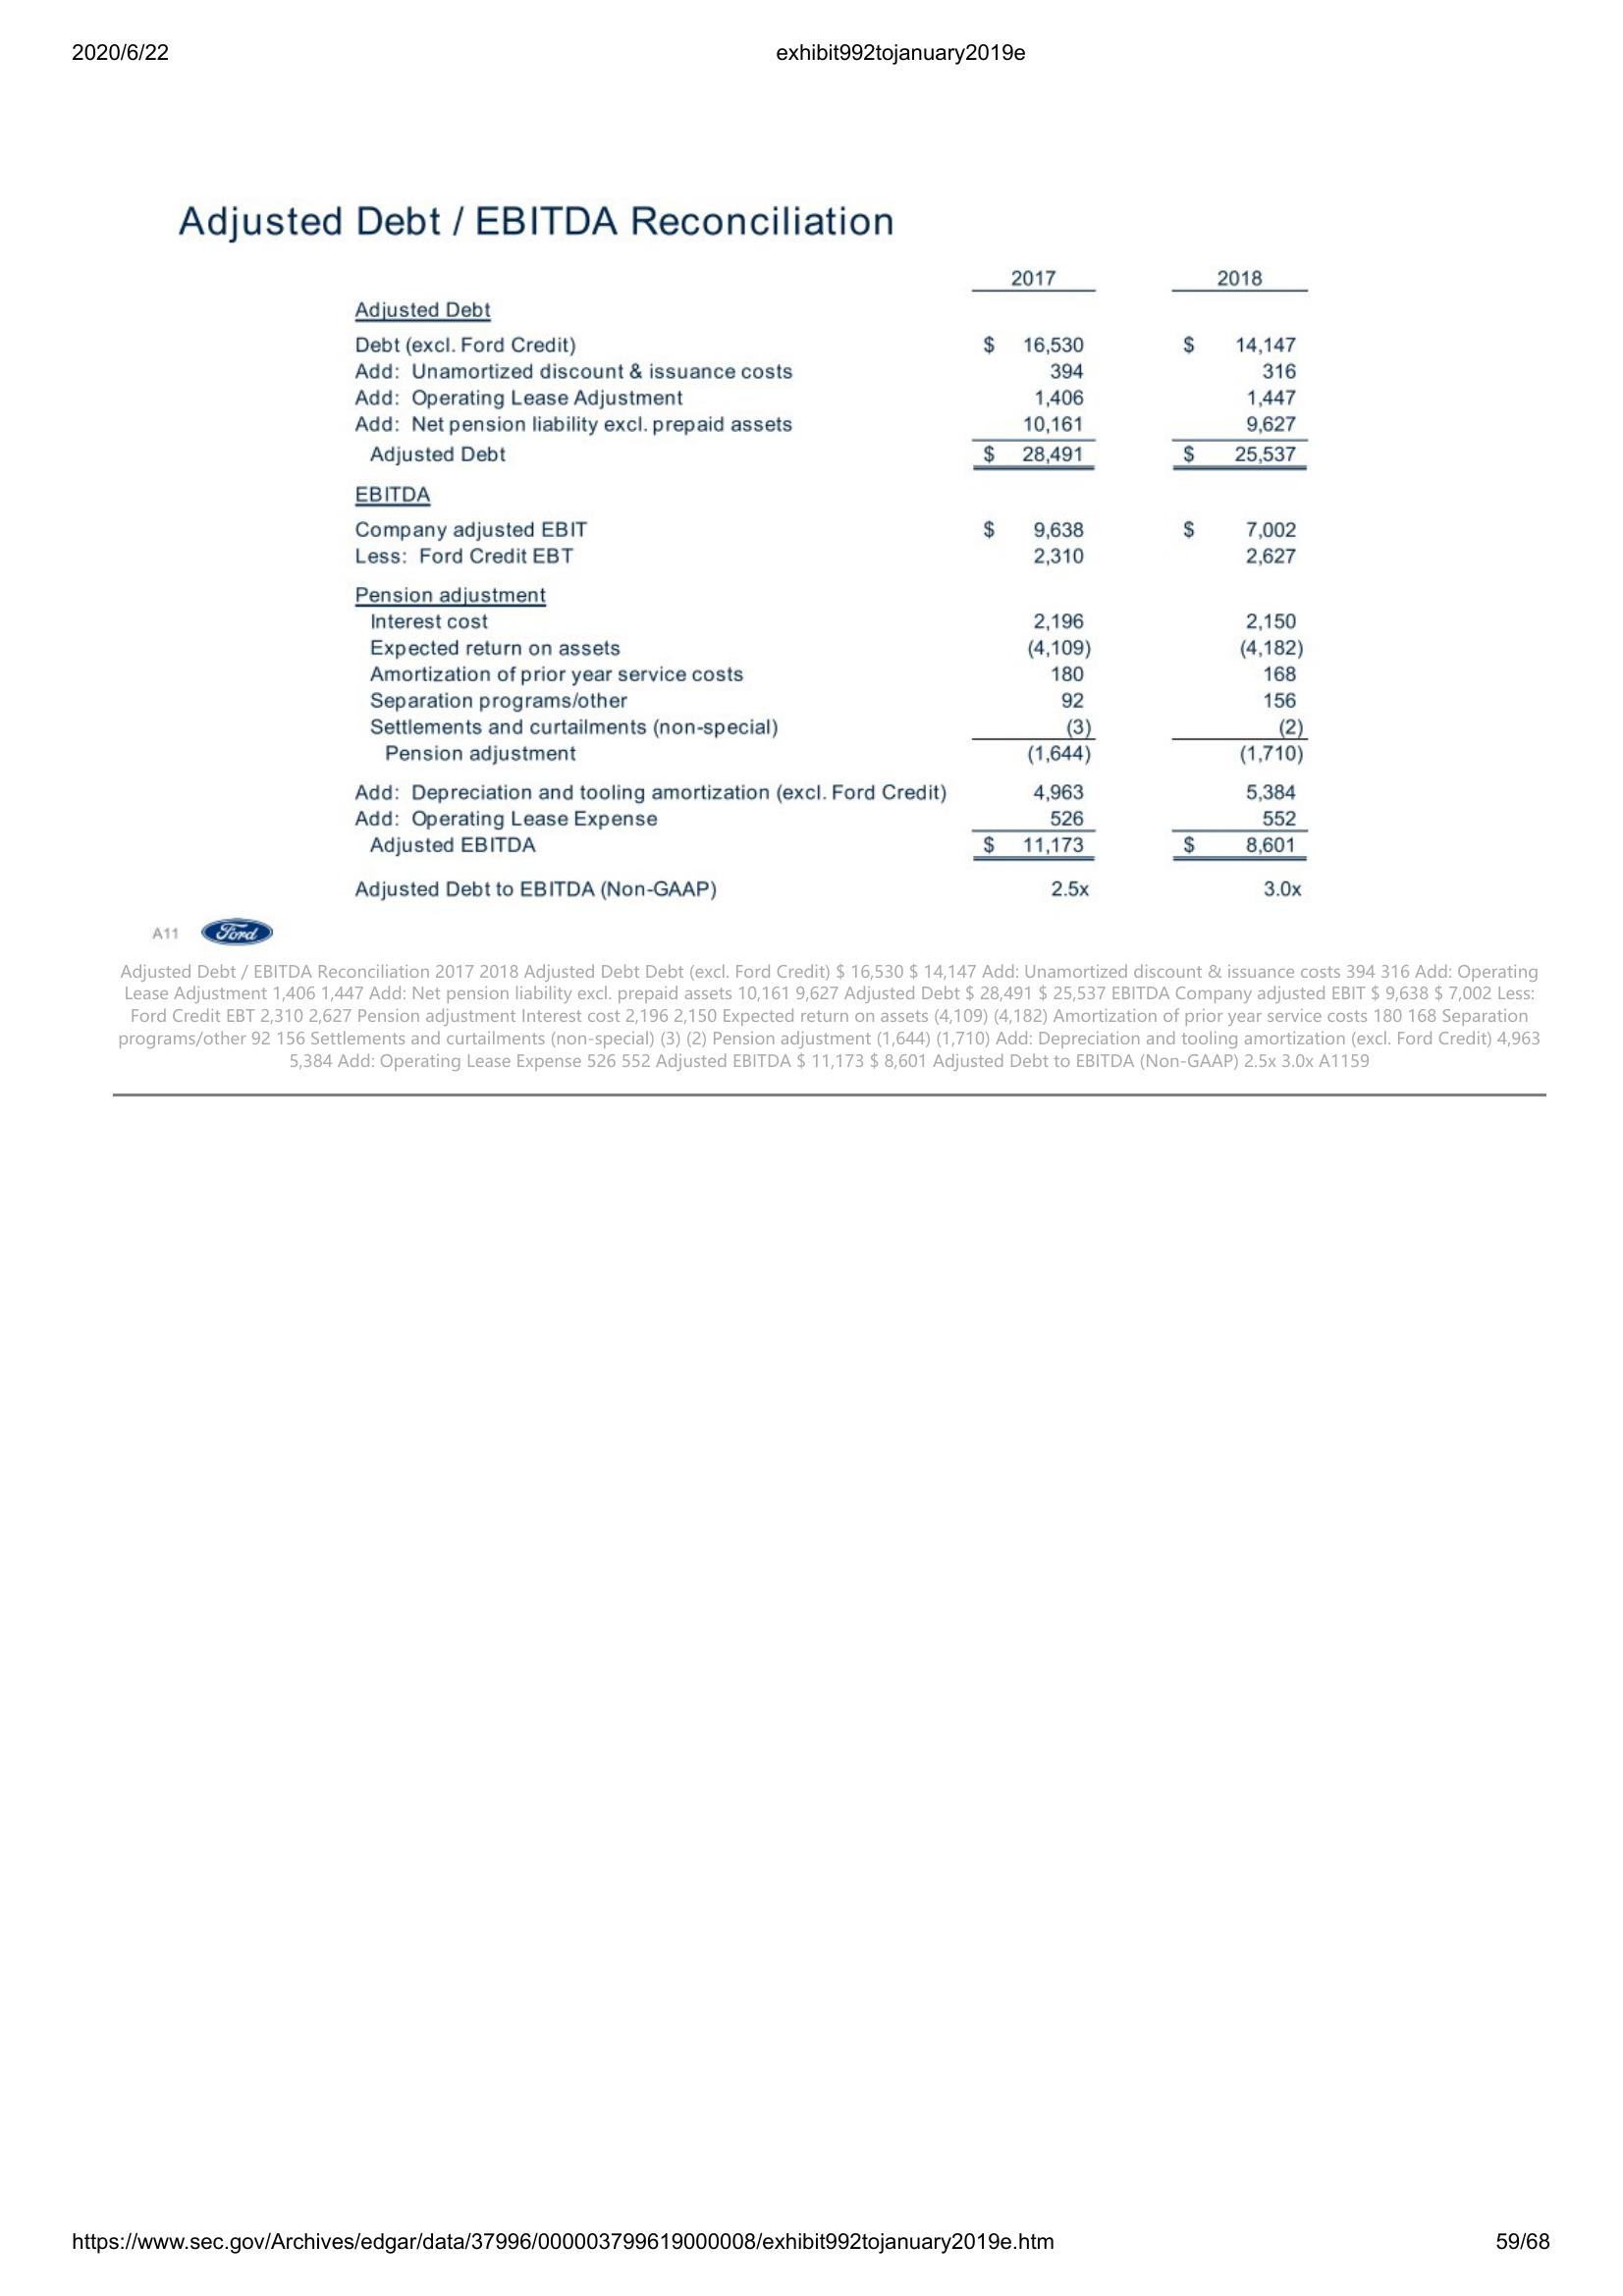table: (343, 249, 1312, 908)
